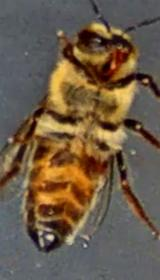varroa_mite: (78, 144, 112, 186)
